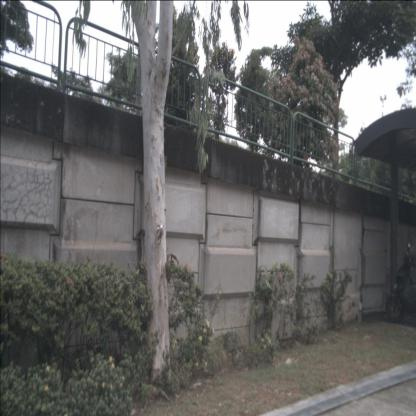vehicle-motorcycle: (386, 242, 415, 325)
